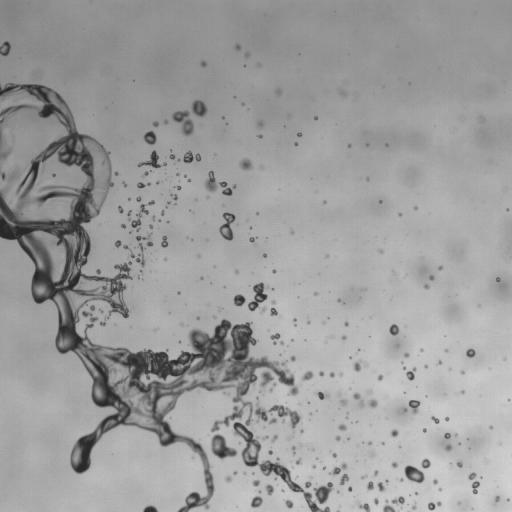droplet: (204, 171, 236, 195), (248, 282, 267, 311), (172, 110, 193, 135), (138, 151, 166, 167), (404, 465, 424, 483), (129, 244, 145, 266), (383, 496, 404, 511), (191, 100, 207, 116), (182, 151, 201, 163), (136, 233, 153, 246), (144, 131, 156, 144), (239, 158, 252, 170), (353, 360, 367, 371), (408, 400, 419, 413), (0, 41, 10, 55), (314, 390, 329, 399), (234, 294, 245, 306), (406, 367, 416, 380), (428, 501, 441, 511), (251, 496, 262, 507), (301, 371, 313, 381), (357, 503, 370, 511), (389, 324, 398, 335), (270, 333, 279, 344), (340, 474, 349, 485), (265, 484, 273, 495), (466, 348, 475, 357), (421, 459, 430, 468), (368, 399, 377, 407), (377, 482, 385, 491), (285, 499, 293, 508), (161, 236, 167, 247), (390, 429, 398, 437), (270, 307, 277, 315), (268, 417, 276, 424), (431, 416, 439, 423), (367, 481, 373, 490), (338, 424, 346, 430), (0, 170, 5, 179), (257, 120, 263, 127), (340, 399, 347, 405), (444, 432, 450, 439), (445, 444, 451, 451), (252, 480, 259, 486), (115, 240, 121, 246), (456, 461, 462, 467), (391, 462, 397, 468), (118, 206, 123, 213), (494, 496, 499, 503), (152, 121, 158, 126), (170, 153, 175, 159), (172, 194, 177, 200), (249, 237, 255, 242), (378, 374, 383, 380), (296, 458, 301, 464), (226, 476, 231, 482), (235, 45, 240, 50), (201, 61, 206, 66), (276, 89, 281, 94), (429, 275, 434, 280), (424, 284, 429, 289), (261, 307, 266, 312), (290, 356, 295, 361), (329, 372, 334, 377), (341, 90, 345, 96), (361, 475, 367, 479), (374, 498, 378, 504), (438, 265, 442, 270), (344, 321, 348, 326), (404, 353, 409, 357), (335, 436, 340, 440), (374, 470, 378, 475), (433, 479, 437, 484), (412, 504, 416, 509), (245, 52, 249, 56), (297, 132, 301, 136), (136, 197, 140, 201), (121, 224, 125, 228), (124, 245, 128, 249), (379, 249, 383, 253), (272, 269, 276, 273), (496, 277, 500, 281), (271, 300, 275, 304), (319, 371, 323, 375), (460, 370, 464, 374), (403, 408, 407, 412), (445, 417, 449, 421), (268, 450, 272, 454), (332, 453, 336, 457), (175, 186, 180, 189), (258, 135, 262, 138), (123, 182, 126, 186), (166, 202, 169, 206), (161, 210, 164, 214), (337, 299, 341, 302), (342, 336, 346, 339), (423, 428, 426, 432), (263, 436, 267, 439), (399, 478, 403, 481), (164, 120, 167, 123), (294, 142, 297, 145), (152, 216, 155, 219), (149, 225, 152, 228), (263, 254, 266, 257), (235, 270, 238, 273), (314, 292, 317, 295), (99, 309, 102, 312), (280, 341, 283, 344), (438, 361, 441, 364), (461, 390, 464, 393), (256, 398, 259, 401), (312, 465, 315, 468), (234, 471, 237, 474), (348, 487, 351, 490), (52, 174, 55, 176), (414, 206, 416, 209), (326, 254, 328, 257), (294, 318, 296, 321), (307, 321, 310, 323), (424, 365, 427, 367), (339, 373, 342, 375), (489, 426, 492, 428), (300, 430, 303, 432), (368, 442, 371, 444), (385, 480, 387, 483), (439, 488, 441, 491), (348, 144, 350, 146), (367, 178, 369, 180), (156, 182, 158, 184), (399, 213, 401, 215), (291, 231, 293, 233), (420, 349, 422, 351), (445, 349, 447, 351), (368, 391, 370, 393), (372, 453, 374, 455), (323, 467, 325, 469), (244, 472, 246, 474), (282, 489, 284, 491), (415, 492, 417, 494)
ligament: (0, 85, 330, 511), (127, 200, 154, 230), (219, 212, 235, 240), (468, 472, 479, 494), (330, 463, 347, 475), (353, 392, 363, 406), (142, 505, 158, 511), (10, 169, 20, 178), (137, 182, 150, 188), (142, 171, 149, 177), (271, 435, 277, 441), (291, 446, 295, 454), (336, 510, 339, 511)
